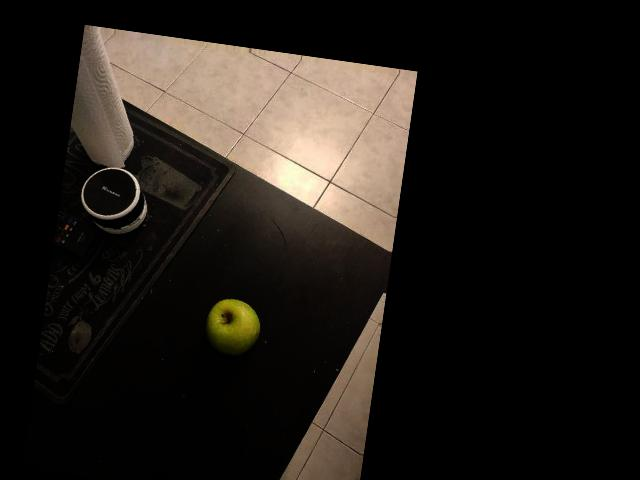apple: (192, 285, 274, 377)
